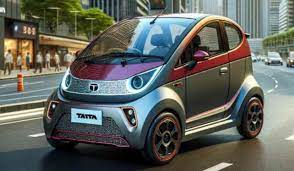Nano: (46, 13, 264, 160)
